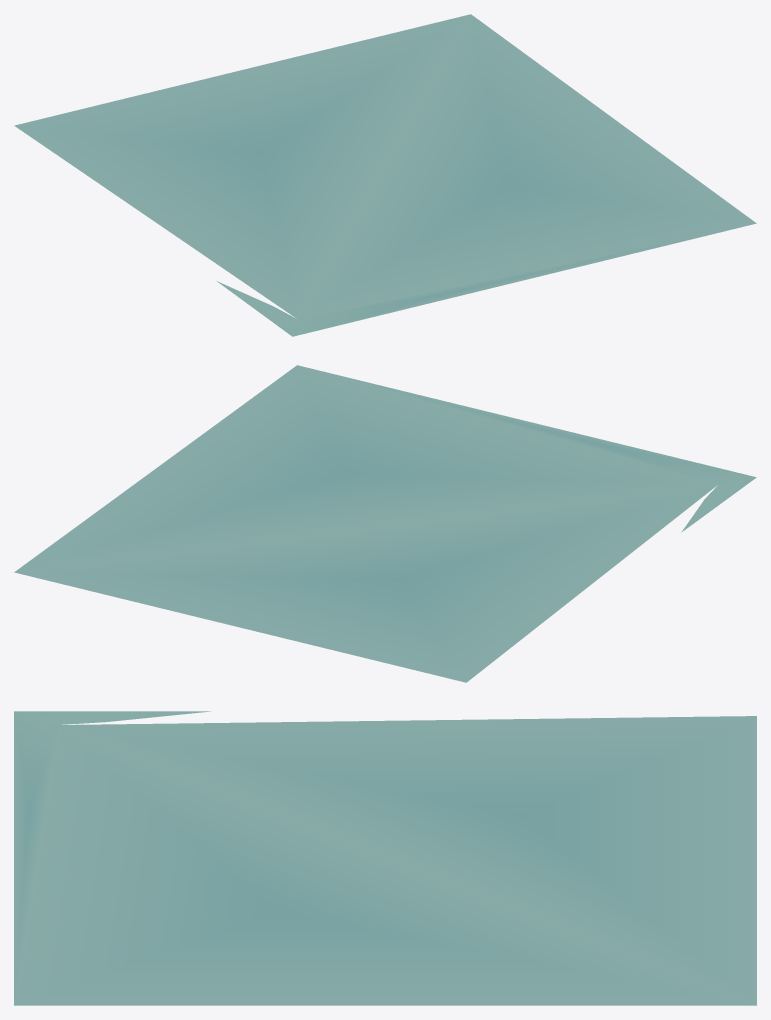
Rendered from water-19-12.glb.
3 views of the same model, one above another, from view 1: azimuth 30°, elevation 25°; view 2: azimuth 150°, elevation 25°; view 3: azimuth 270°, elevation 25° (orthographic). The views are drawn at different scales.
Size of the model in its own units: 15 by 0 by 16.
